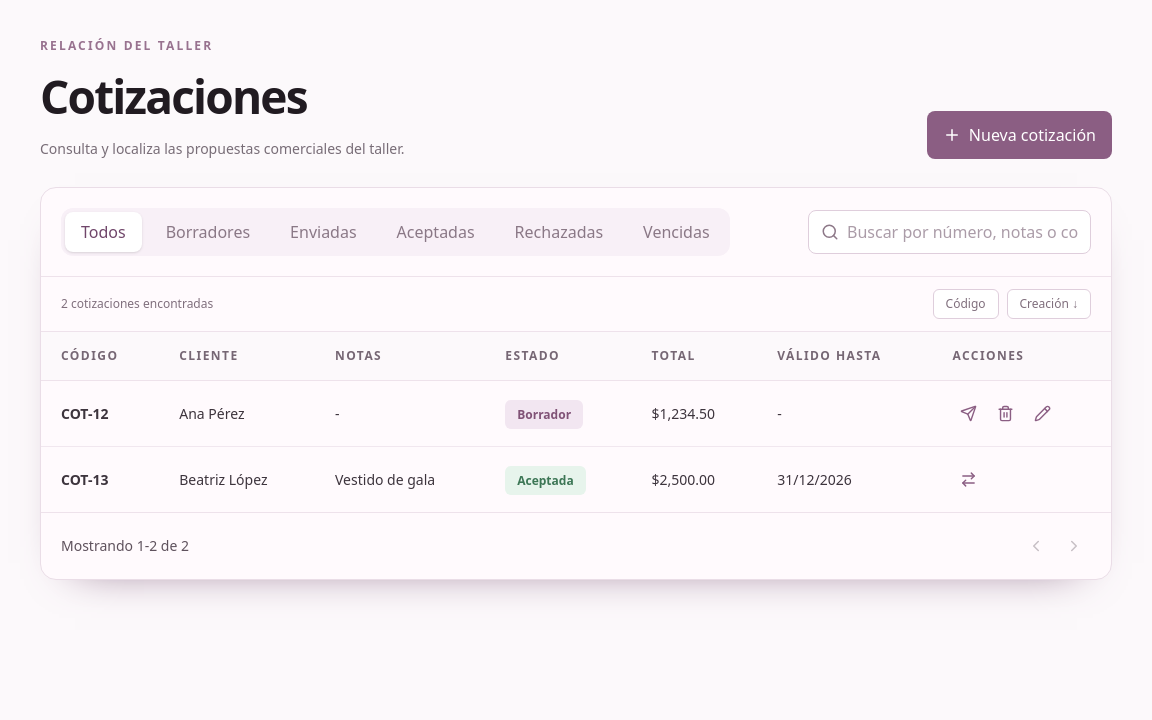
Scenario: QuotesPage › shows the API error when conversion loses its accepted state
Expected: the text "COT-13" is shown, [61, 470, 108, 488]
Click the button named "Convertir en pedido" at (969, 480), box [952, 463, 986, 496]
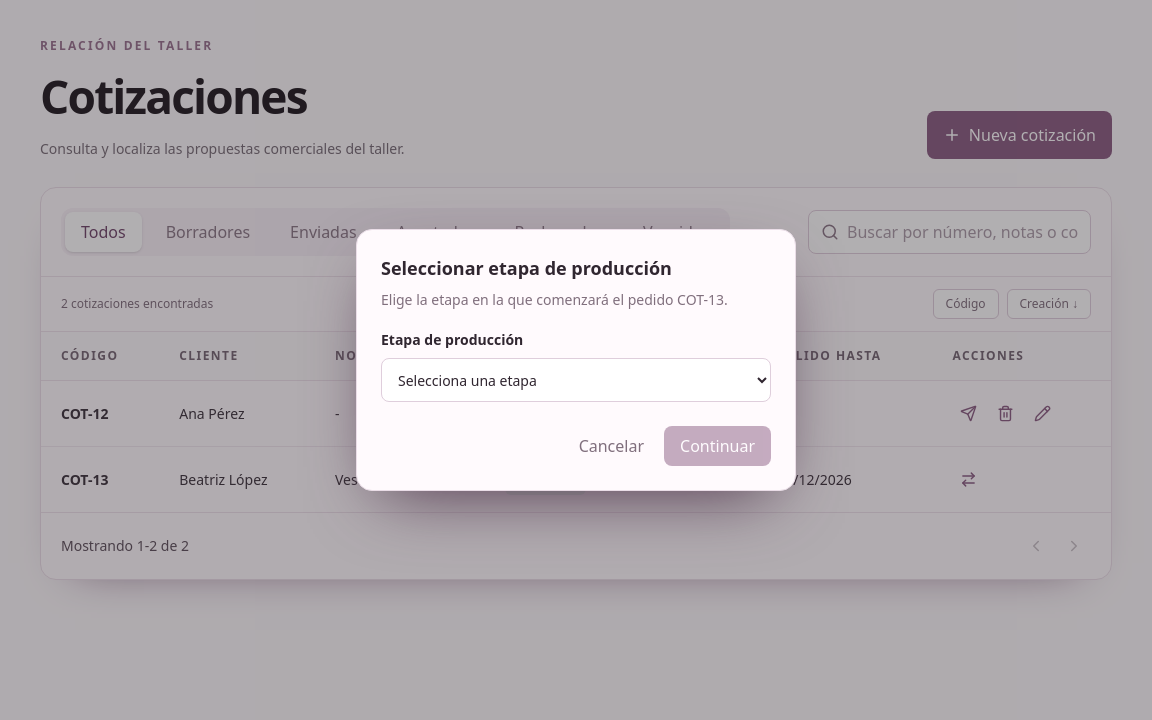
Expected: the dropdown labelled "Etapa de producción" is shown
Select "Preparación" in the dropdown labelled "Etapa de producción" at (576, 380), box [381, 358, 771, 402]
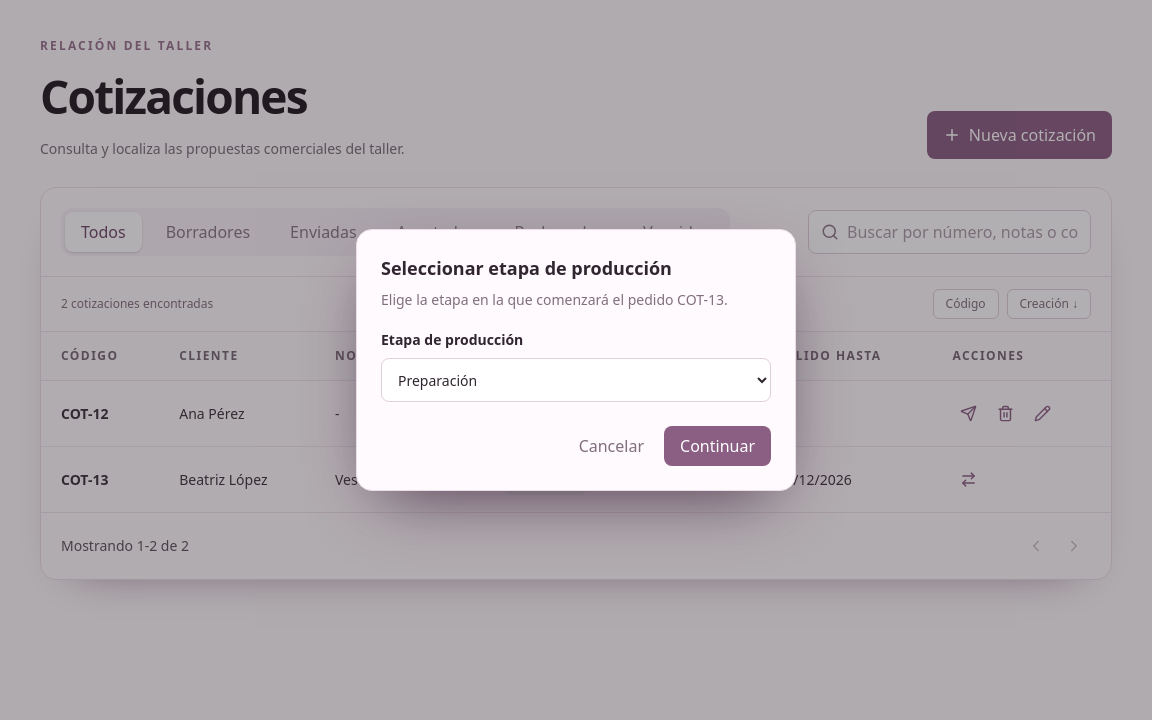
Click the button "Continuar" at (718, 446), box [664, 426, 771, 466]
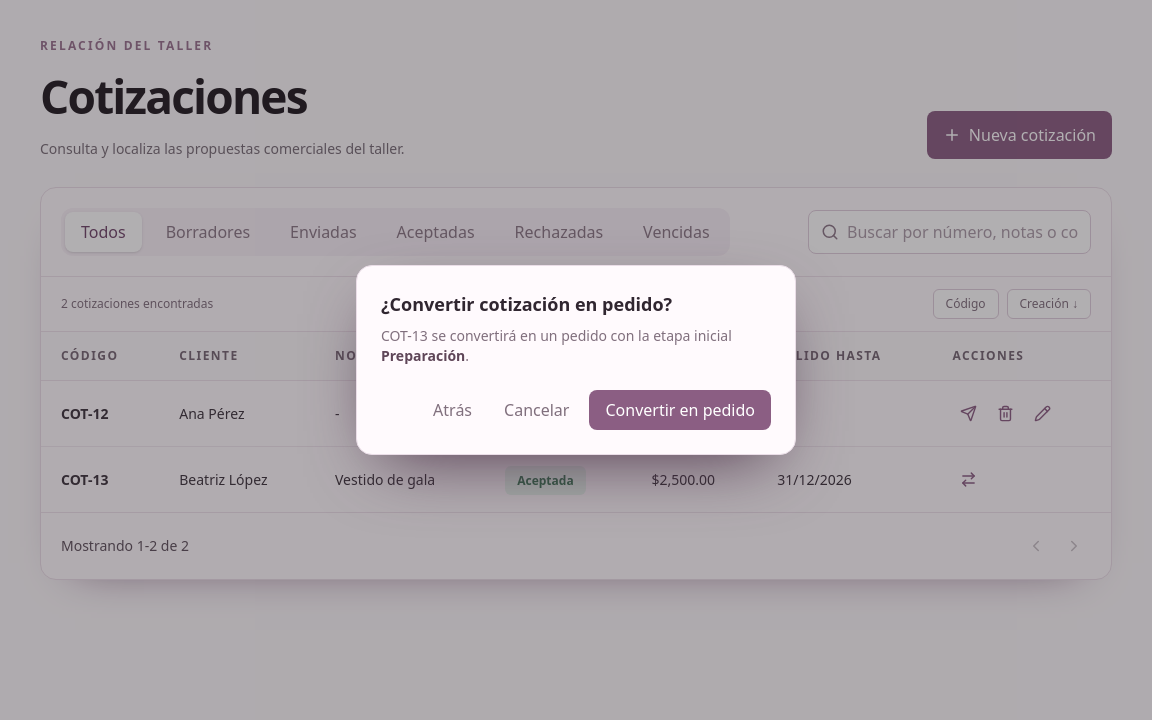
Click the button "Convertir en pedido" at (680, 410), box [590, 390, 771, 430]
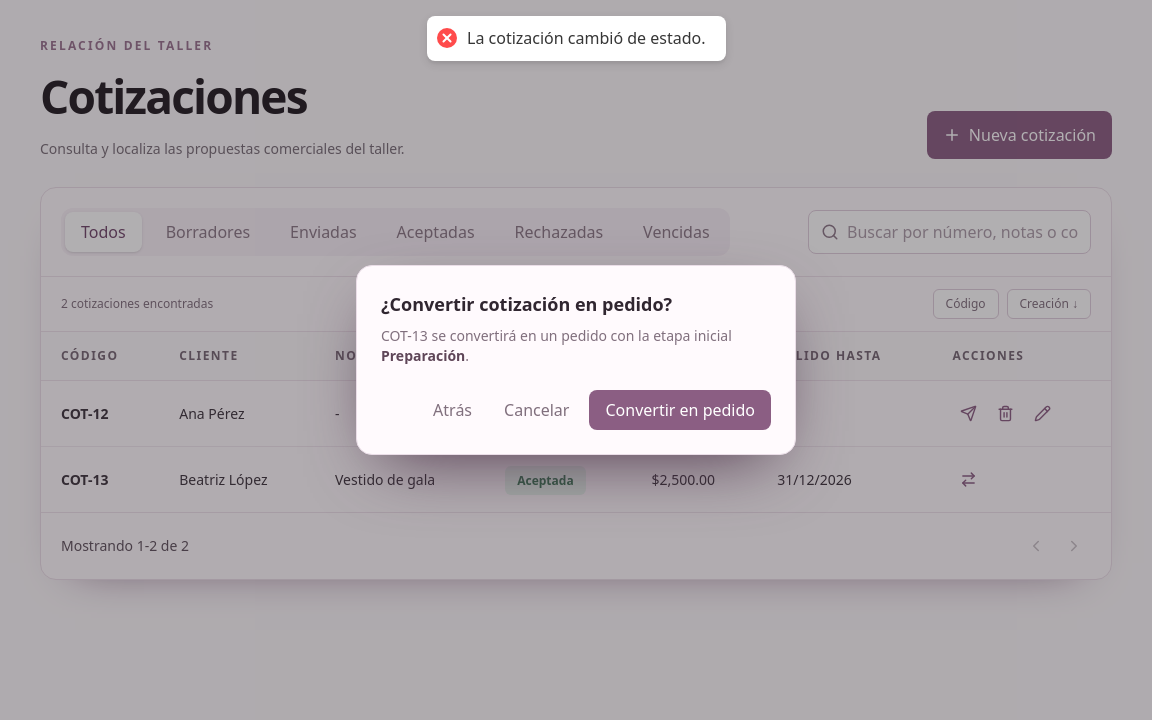
Expected: the text "La cotización cambió de estado." is shown, [467, 28, 705, 49]
